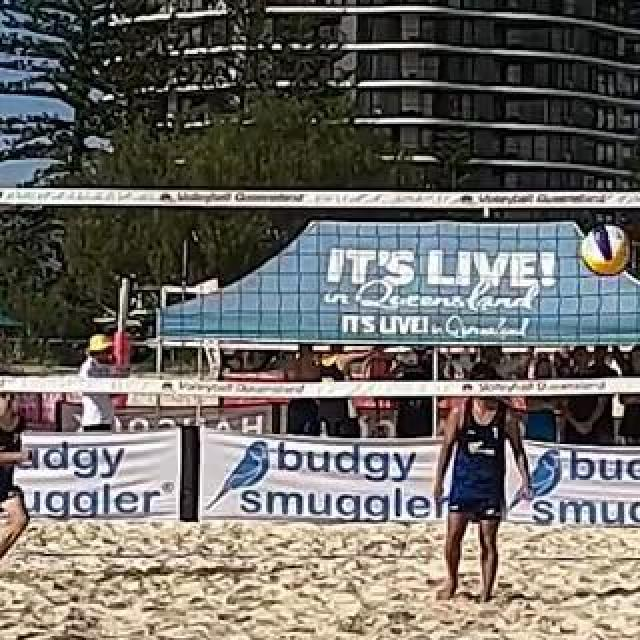volleyball: (582, 223, 630, 275)
